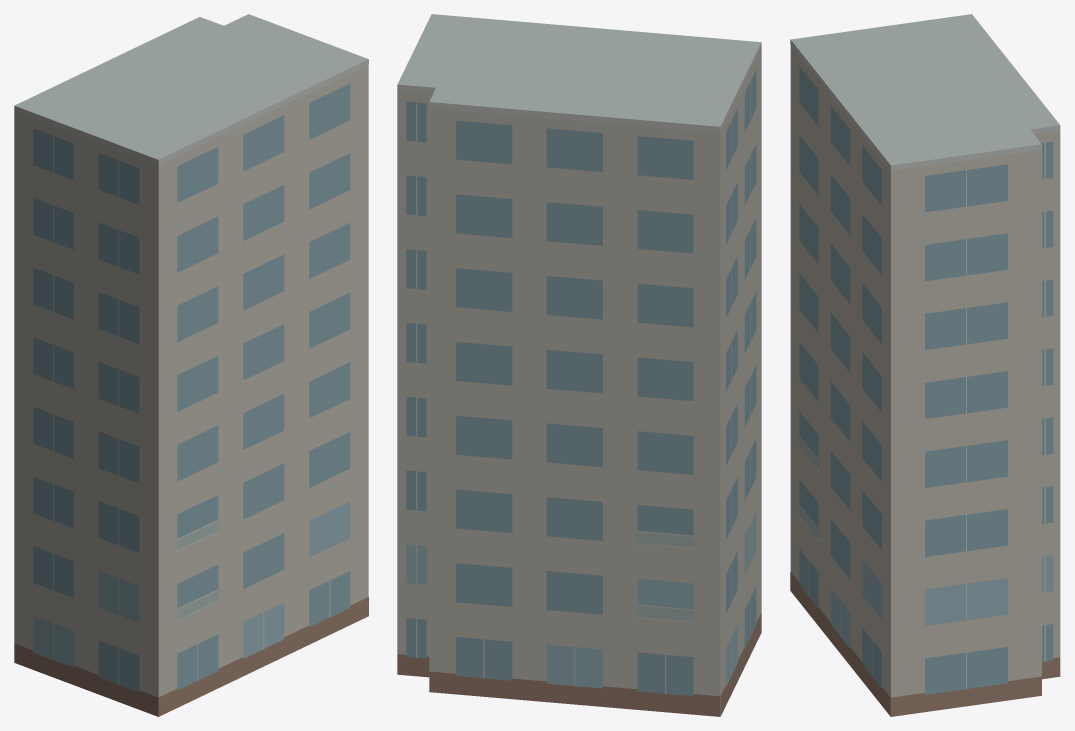
File: survey-upis-32569797.glb
3 views of the same model, side by side, from view 1: azimuth 30°, elevation 25°; view 2: azimuth 150°, elevation 25°; view 3: azimuth 270°, elevation 25° (orthographic). The views are drawn at different scales.
Visible parts, largest first — view 1: survey-upis-32569797.tmp; view 2: survey-upis-32569797.tmp; view 3: survey-upis-32569797.tmp.
Part boxes in pixels (x1,y1,x2,y2): survey-upis-32569797.tmp: (14,14,368,716); survey-upis-32569797.tmp: (397,14,761,716); survey-upis-32569797.tmp: (790,14,1060,716).
Bounding box in the file's own units: 14.09 × 23.9 × 10.61.
